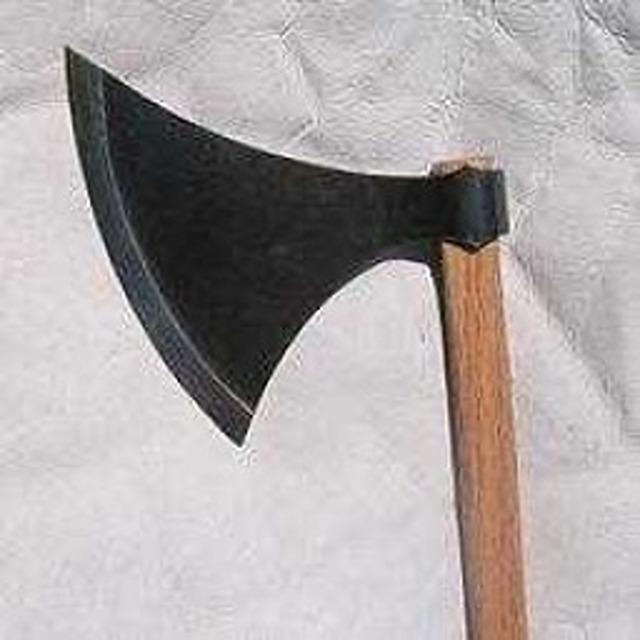ax: (50, 30, 540, 640)
